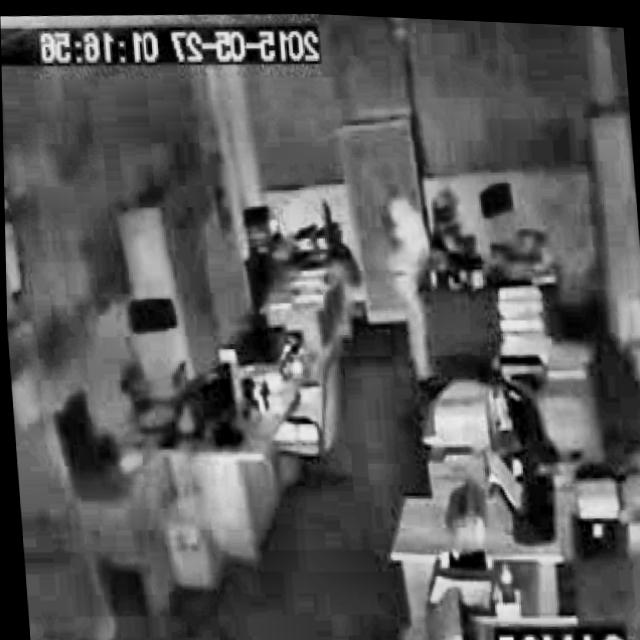burglary: (364, 174, 464, 387)
